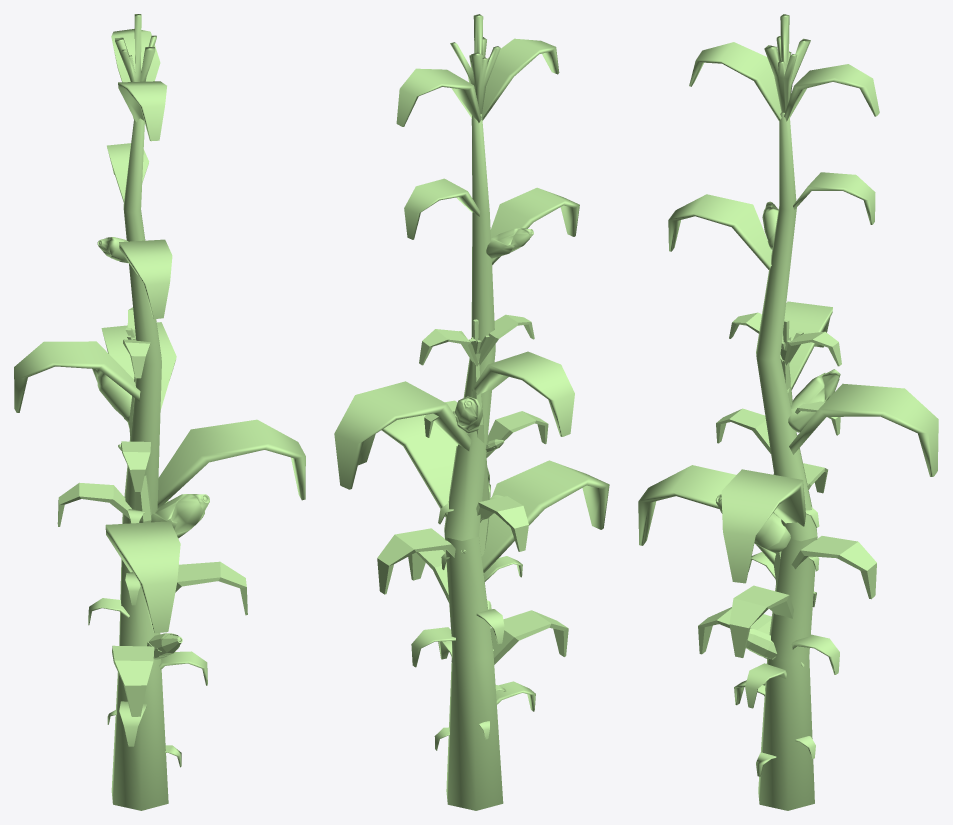
The model's file is Farm_Plant.glb.
3 views of the same model, side by side, from view 1: azimuth 30°, elevation 25°; view 2: azimuth 150°, elevation 25°; view 3: azimuth 270°, elevation 25° (orthographic).
Visible parts, largest first — view 1: Plant_Stage3, Plant_Stage2, Plant_Stage1; view 2: Plant_Stage3, Plant_Stage2, Plant_Stage1; view 3: Plant_Stage3, Plant_Stage2, Plant_Stage1.
Part boxes in pixels (x1,y1,x2,y2): Plant_Stage3: (14,14,305,810); Plant_Stage2: (57,307,247,716); Plant_Stage1: (88,509,207,746); Plant_Stage3: (334,14,609,810); Plant_Stage2: (377,314,568,664); Plant_Stage1: (411,495,535,711); Plant_Stage3: (638,14,938,810); Plant_Stage2: (698,312,876,660); Plant_Stage1: (734,507,839,708).
Bounding box in the file's own units: 0.1234 × 0.3653 × 0.1275.
